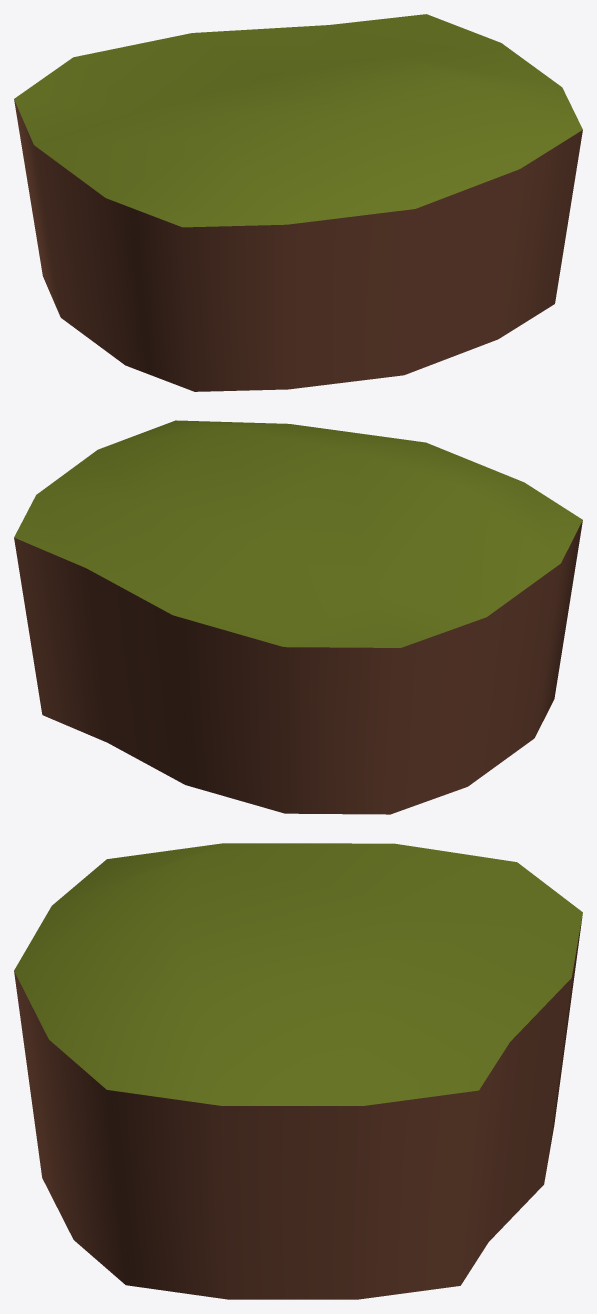
The model's file is plateau.glb.
3 renders of one model, top to bottom at view 1: azimuth 30°, elevation 25°; view 2: azimuth 150°, elevation 25°; view 3: azimuth 270°, elevation 25°, orthographic. The views are drawn at different scales.
Parts seen in each view (by area): view 1: Cube-convcol; view 2: Cube-convcol; view 3: Cube-convcol.
Part boxes in pixels (<box>): Cube-convcol: <box>14,14,582,391</box>; Cube-convcol: <box>14,420,582,814</box>; Cube-convcol: <box>14,843,582,1299</box>.
Bounding box in the file's own units: 5.45 × 2.47 × 4.99.
